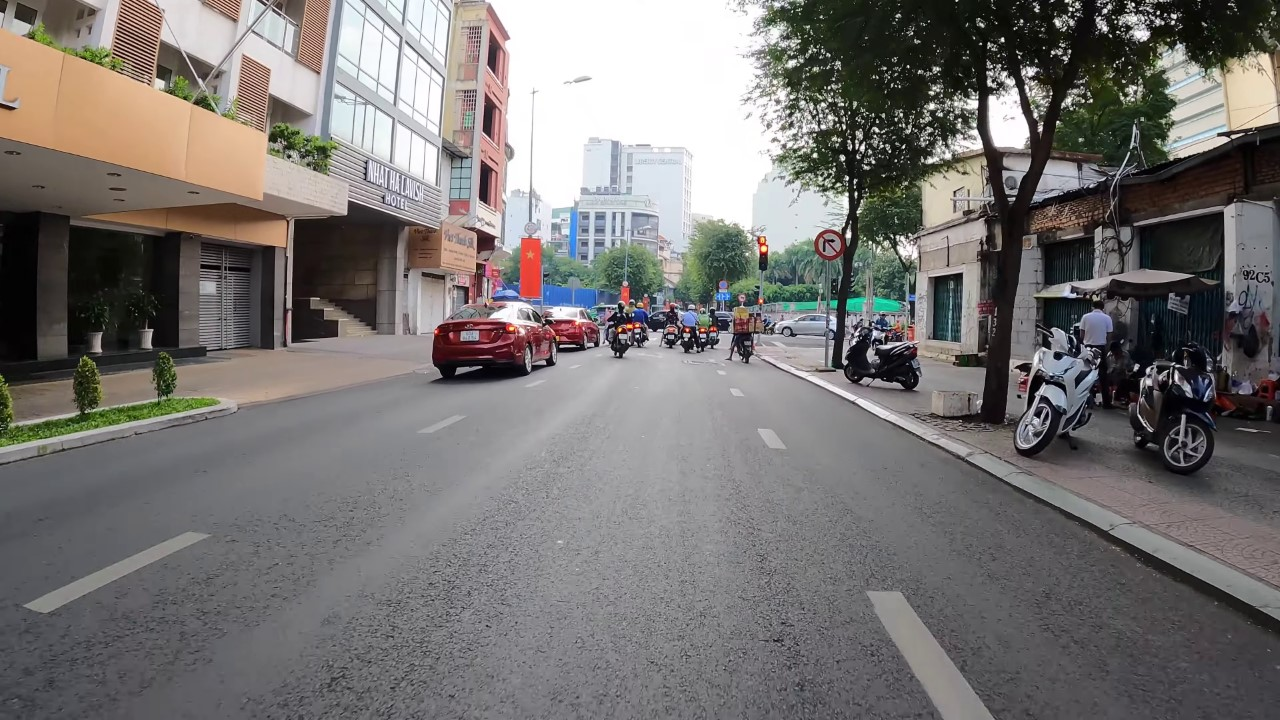cam_re_phai: (811, 225, 849, 261)
